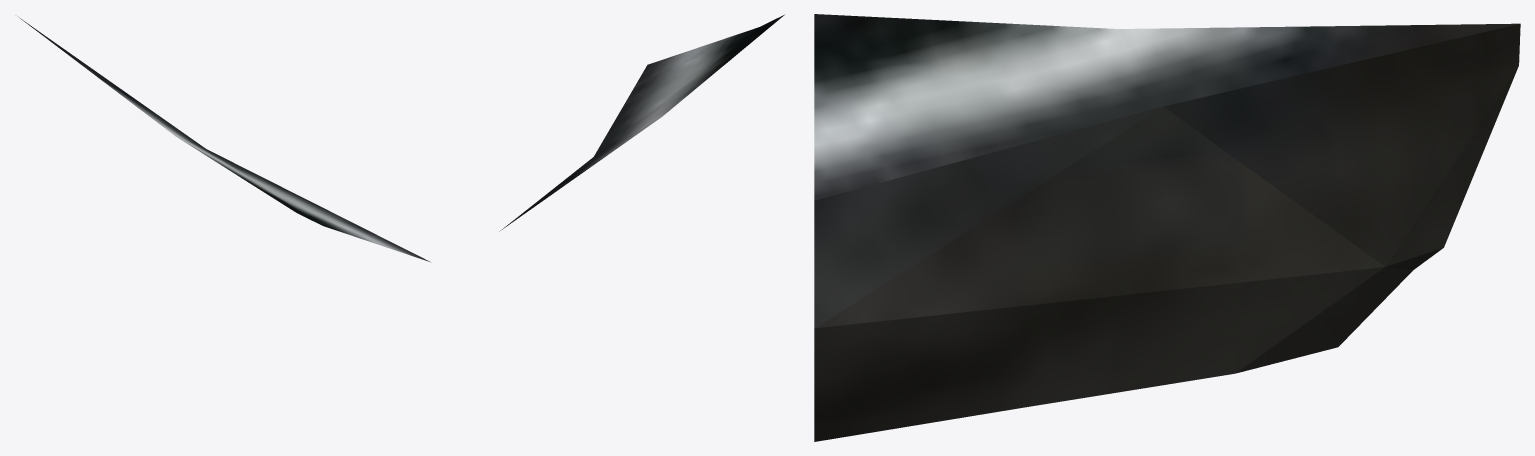
3 renders of one model, left to right at view 1: azimuth 30°, elevation 25°; view 2: azimuth 150°, elevation 25°; view 3: azimuth 270°, elevation 25°, orthographic. The views are drawn at different scales.
Bounding box in the file's own units: 0.0535 × 0.0789 × 0.1516.
Materials: 1 (1 with a texture image).
